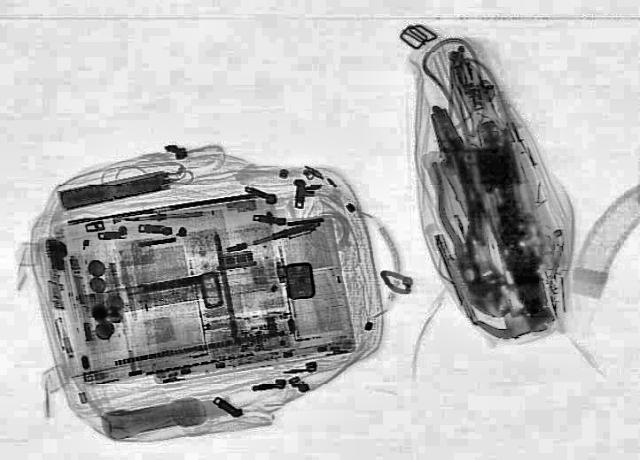Pliers: (428, 158, 497, 284)
